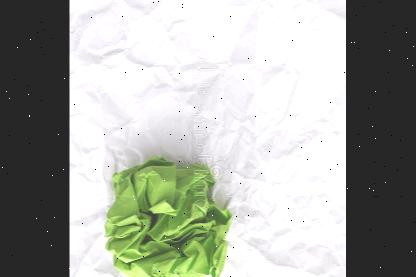Others: (104, 155, 232, 277)
